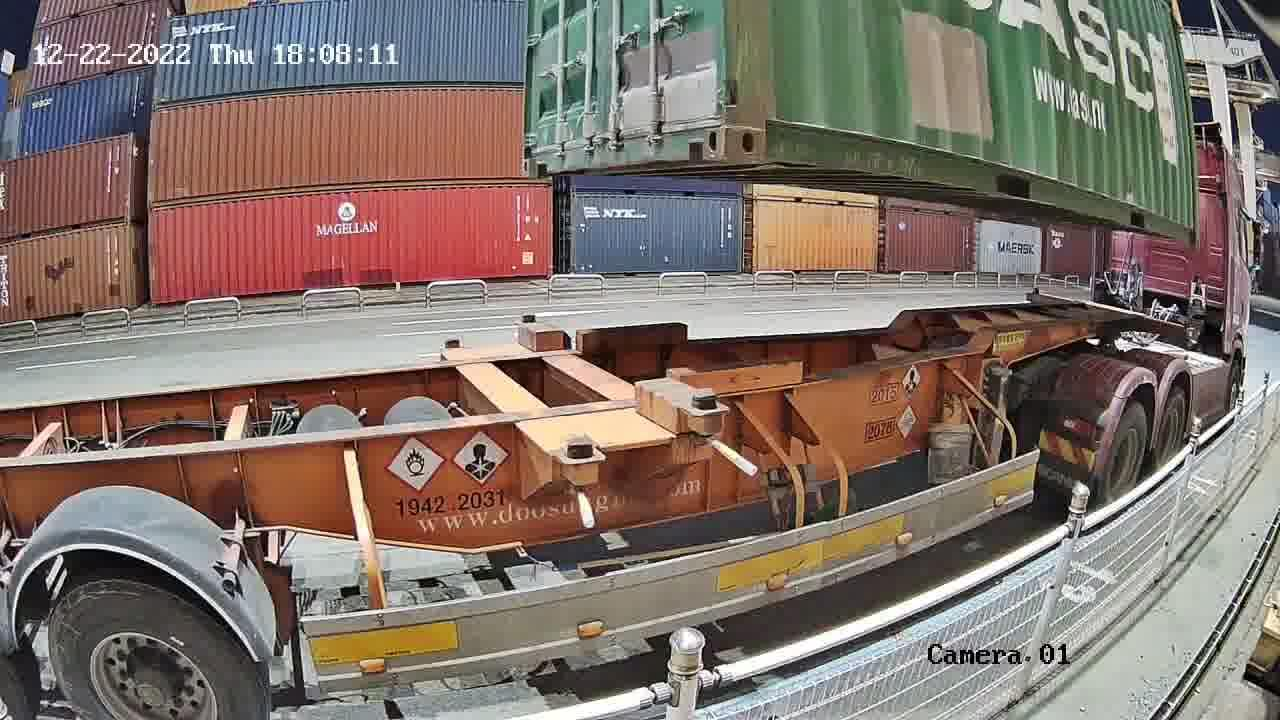Chassis: (514, 321, 727, 441)
Cone: (688, 388, 726, 450), (518, 309, 538, 329)
Hole_L: (725, 90, 805, 168), (520, 132, 555, 177)
Hole_R: (671, 97, 725, 157)
Tire: (1101, 407, 1149, 507), (1157, 393, 1187, 470)
